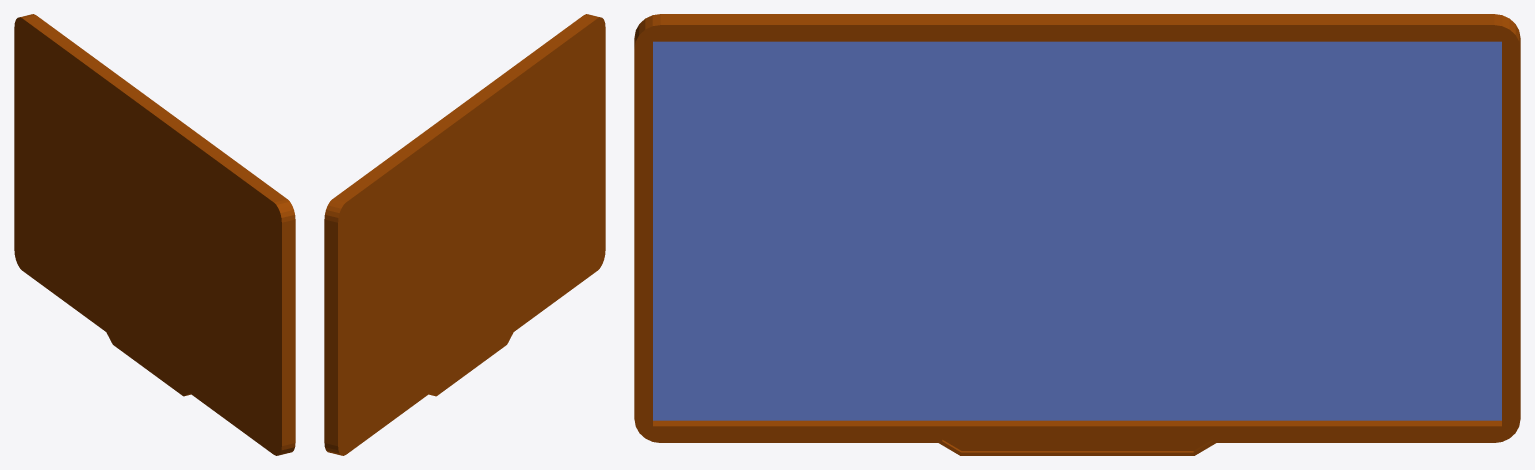
File: Screen.fbx
The picture shows the model from 3 angles, left to right: view 1: azimuth 30°, elevation 25°; view 2: azimuth 150°, elevation 25°; view 3: azimuth 270°, elevation 25°; orthographic projection. The views are drawn at different scales.
Parts seen in each view (by area): view 1: Flag_Pole; view 2: Flag_Pole; view 3: Flag_Flag, Flag_Pole.
Boxes of the visible parts, x1,y1,x2,y2 form: Flag_Pole: (14, 14, 295, 455); Flag_Pole: (324, 14, 605, 455); Flag_Flag: (653, 41, 1501, 420); Flag_Pole: (634, 14, 1520, 455).
Bounding box in the file's own units: 7.07 × 129 × 240.
